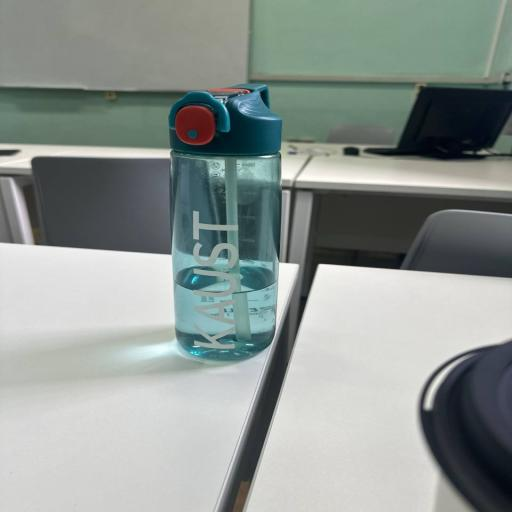bench: (169, 84, 282, 362)
bottle: (32, 154, 172, 254)
phone: (0, 243, 298, 512), (0, 142, 303, 244), (287, 155, 512, 291)
